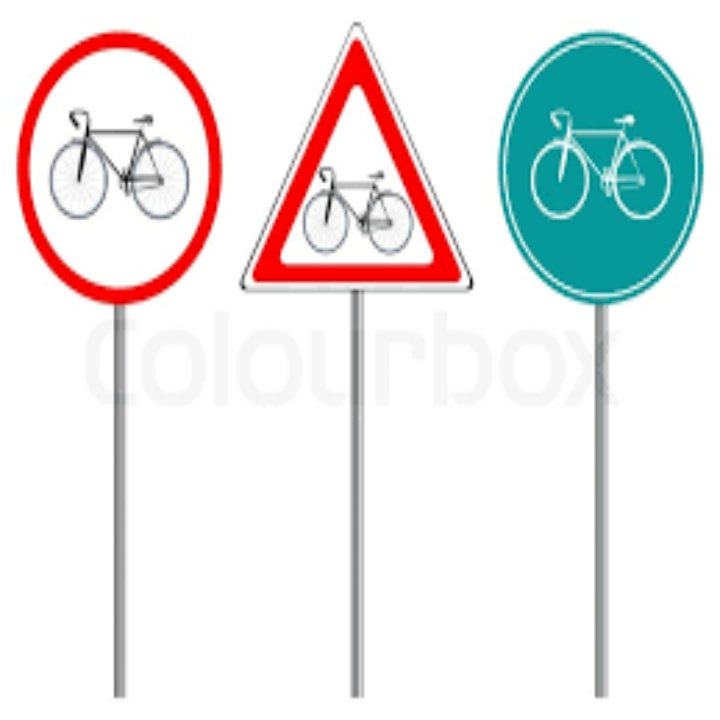bicycle: (45, 101, 193, 228), (527, 102, 675, 225), (295, 165, 415, 257)
